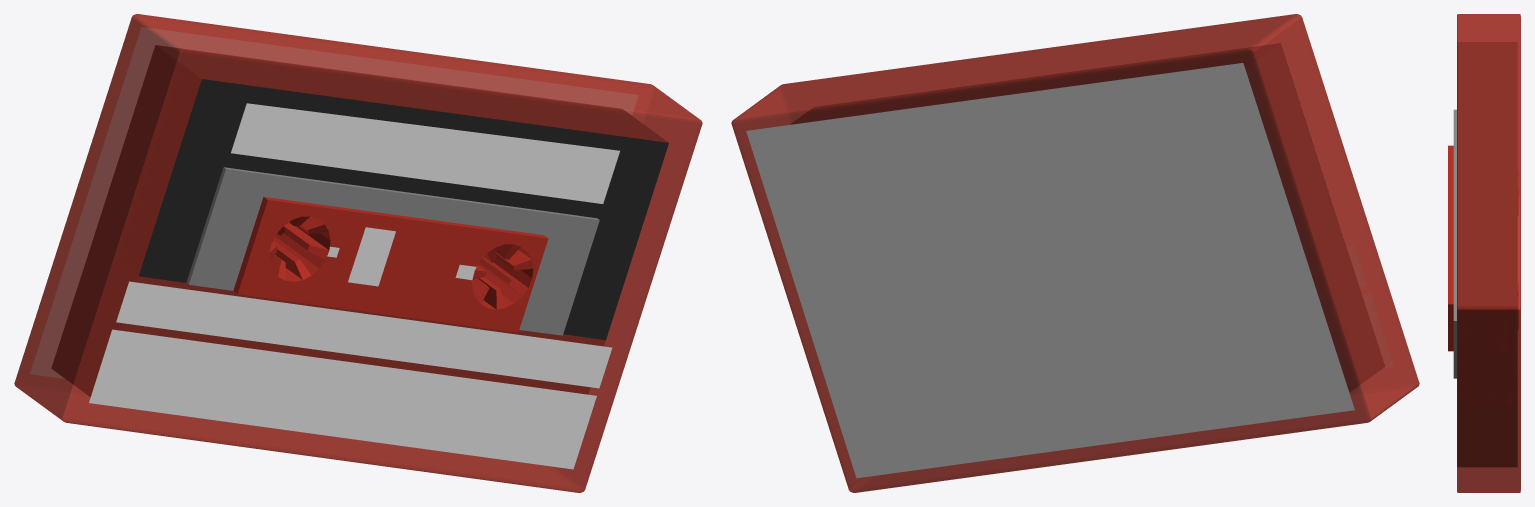
The model's file is Cassette_Red.fbx.
3 views of the same model, side by side, from view 1: azimuth 30°, elevation 25°; view 2: azimuth 150°, elevation 25°; view 3: azimuth 270°, elevation 25° (orthographic). The views are drawn at different scales.
Parts seen in each view (by area): view 1: Cube; view 2: Cube; view 3: Cube.
Boxes of the visible parts, x1=… form: Cube: x1=14, y1=14, x2=702, y2=492; Cube: x1=731, y1=14, x2=1419, y2=492; Cube: x1=1448, y1=14, x2=1520, y2=492.
Bounding box in the file's own units: 184 × 148 × 27.78.
